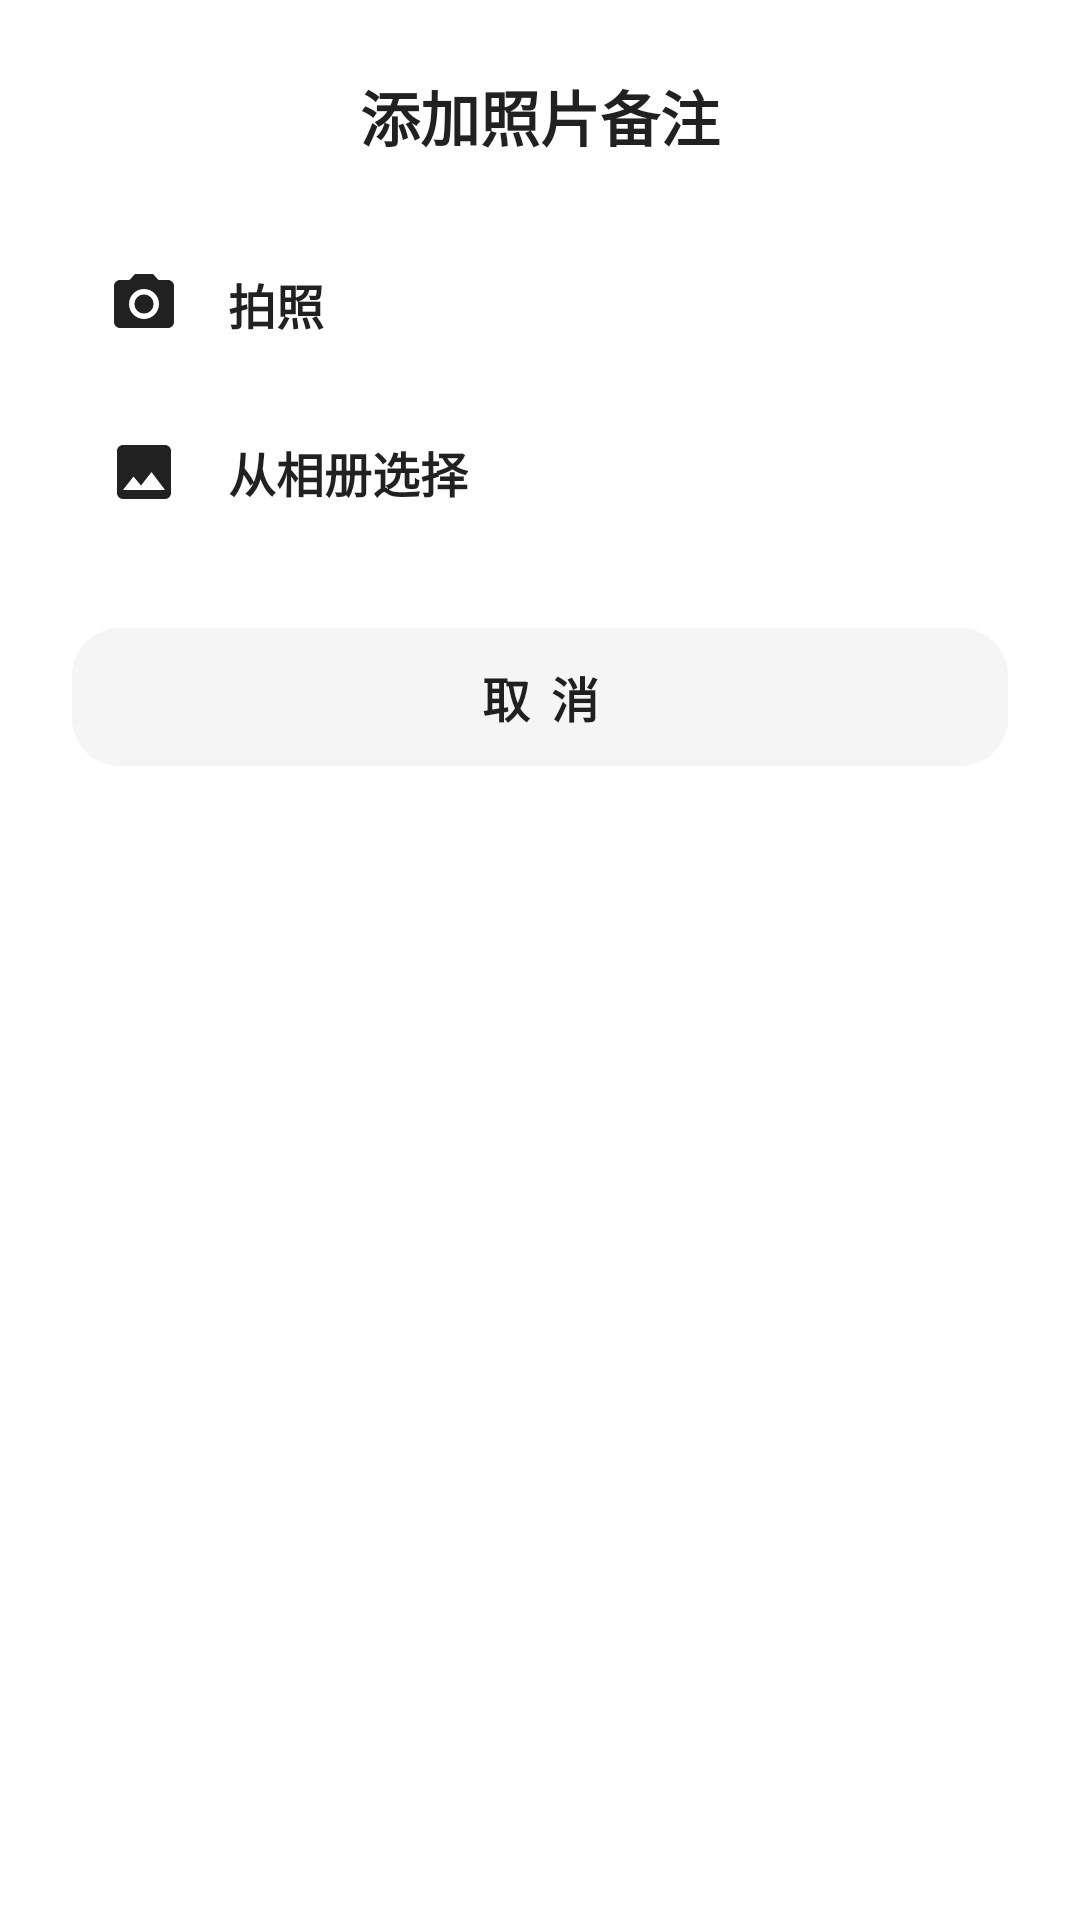

Screen size 1080×1920. Icon name, then its box in pixels as (x1, y1, x2, y2):
camera: (114, 274, 174, 328)
